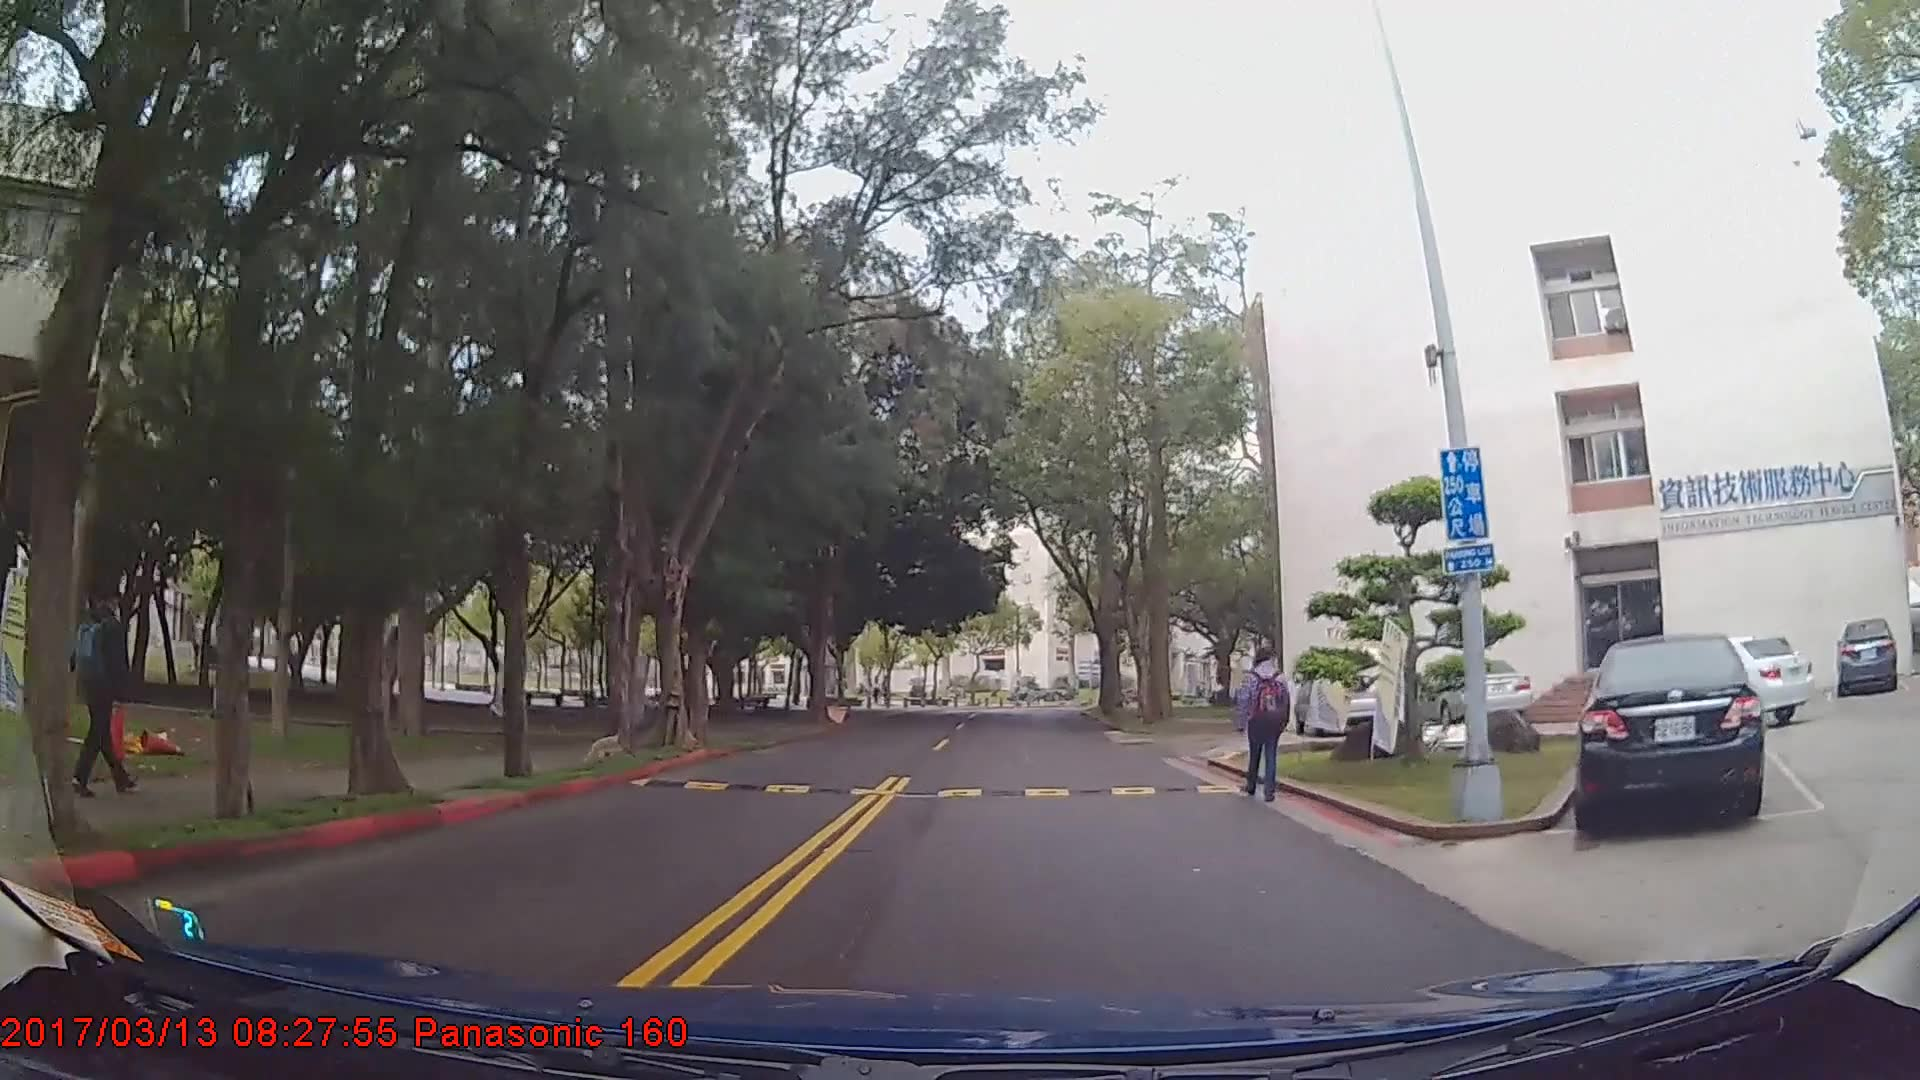pedestrian: (1233, 648, 1304, 810)
vehicle: (1571, 632, 1762, 834), (1655, 631, 1811, 726), (1410, 654, 1530, 726), (1832, 616, 1895, 697)
